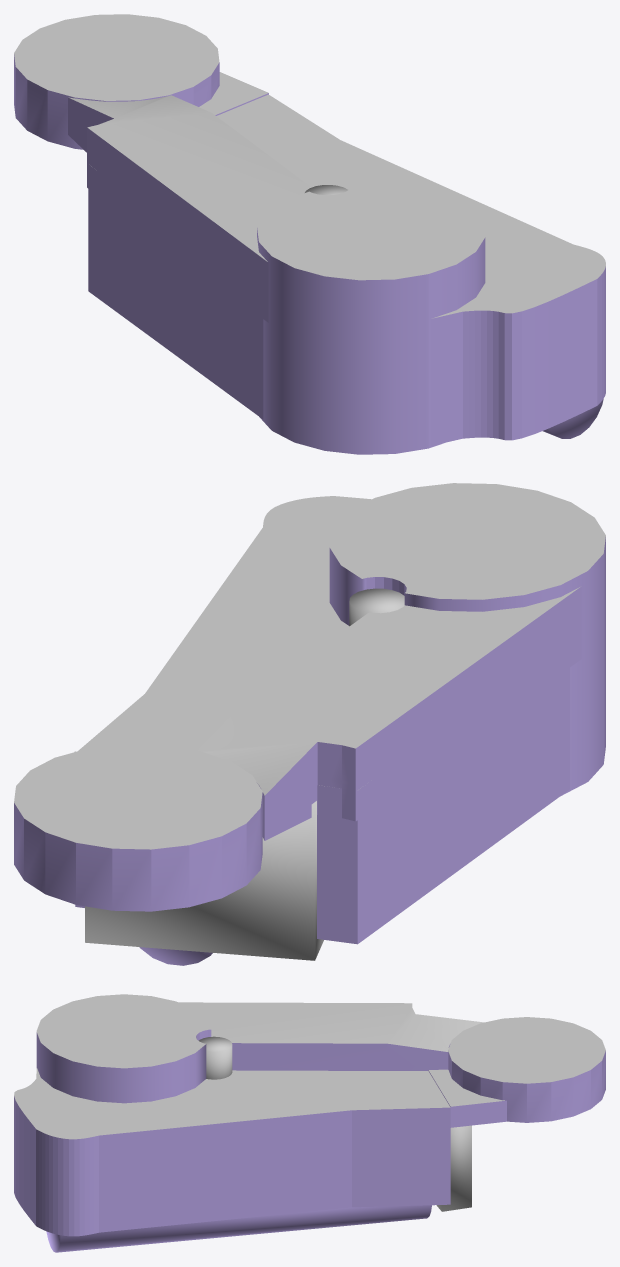
File: front_left_upper.obj
3 renders of one model, top to bottom at view 1: azimuth 30°, elevation 25°; view 2: azimuth 150°, elevation 25°; view 3: azimuth 270°, elevation 25°, orthographic. The views are drawn at different scales.
Bounding box in the file's own units: 1.91 × 1.35 × 4.34.
